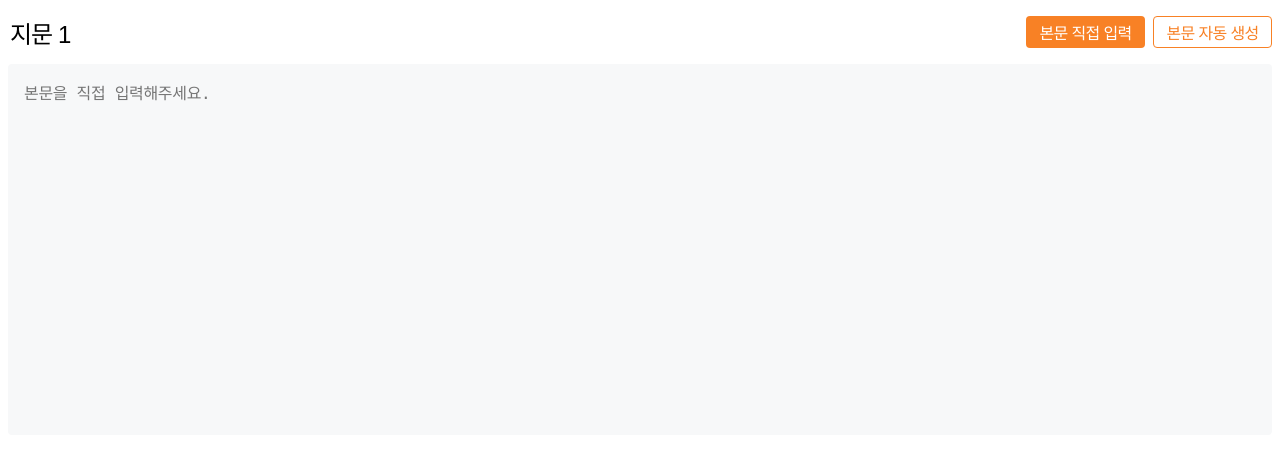
Scenario: PassageEditor › without content › renders auto generate message
What coordinates should you click on to do the following:
click the button "본문 자동 생성"
I would click on:
 (1212, 32)
Its box is [1153, 16, 1272, 48].
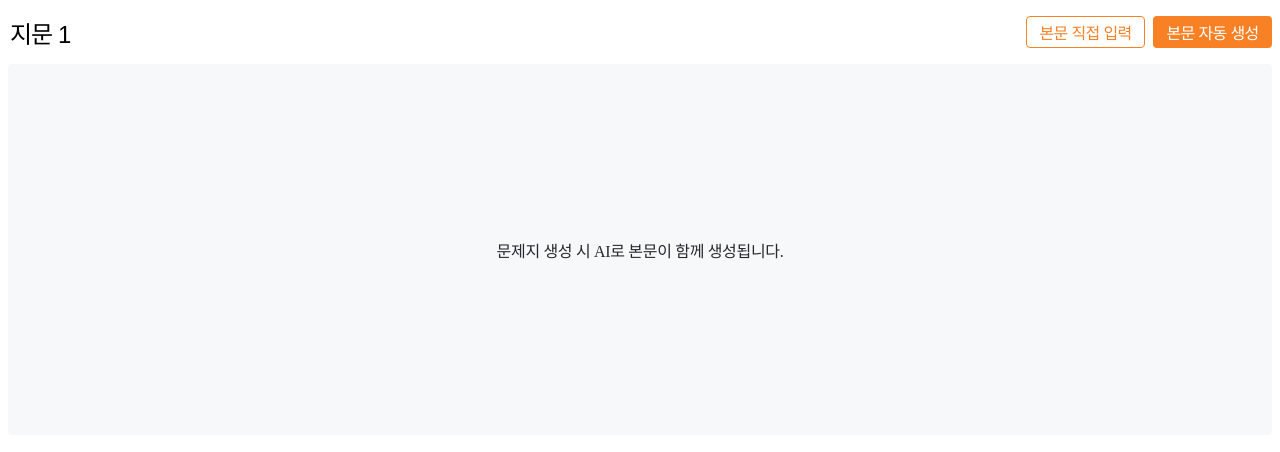
Expected: the text "문제지 생성 시 AI로 본문이 함께 생성됩니다." is shown
